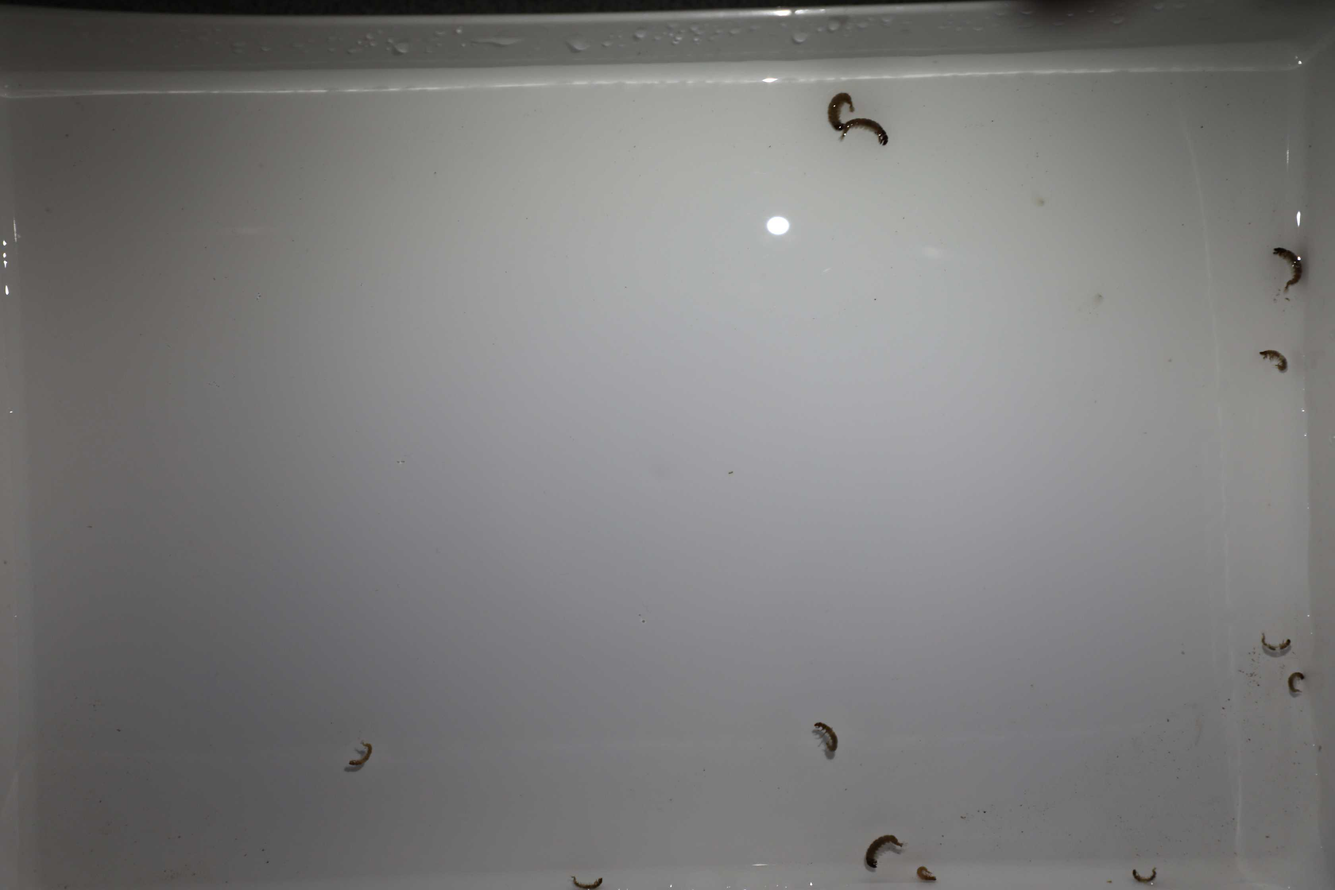Cadisfly: (1263, 236, 1311, 296), (855, 826, 903, 873), (1247, 626, 1293, 665), (812, 715, 847, 761), (844, 112, 888, 147), (1255, 338, 1293, 378), (337, 733, 376, 771), (821, 86, 852, 130), (1281, 662, 1314, 700), (1121, 864, 1157, 890), (570, 870, 606, 890), (910, 859, 936, 882)
